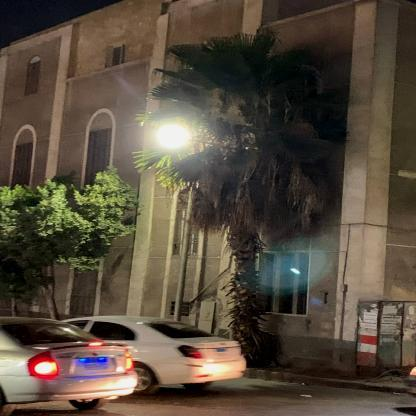light_pole: (156, 122, 200, 332)
